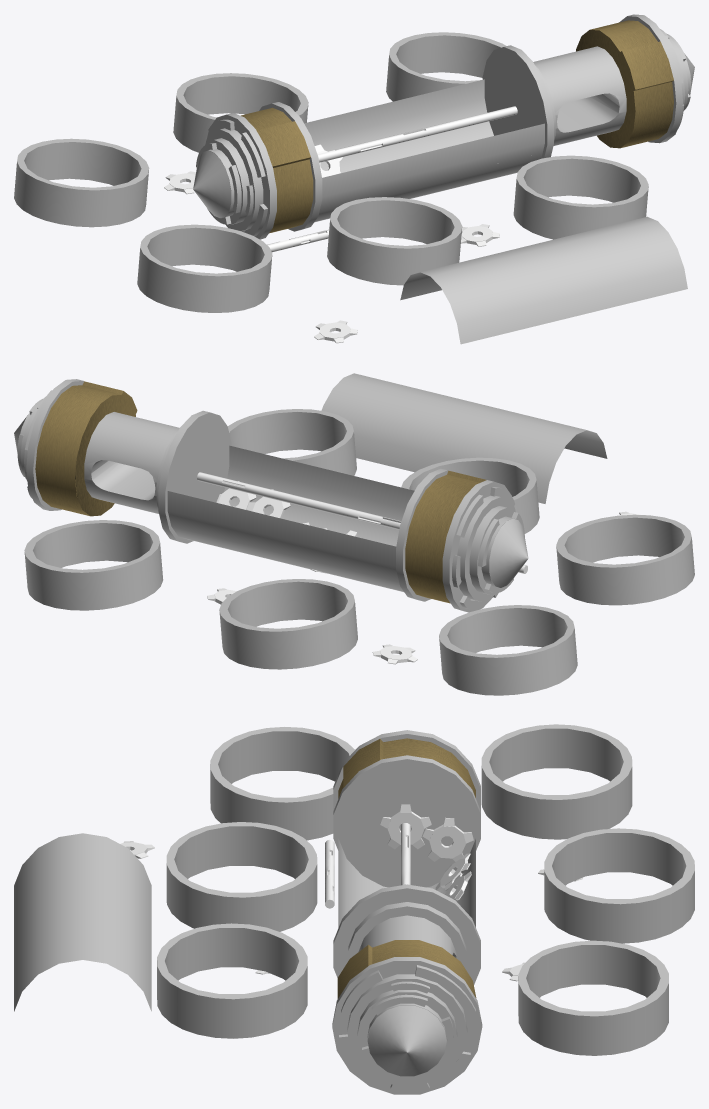
The model's file is BrokenAna.FBX.
The picture shows the model from 3 angles, top to bottom: view 1: azimuth 30°, elevation 25°; view 2: azimuth 150°, elevation 25°; view 3: azimuth 270°, elevation 25°; orthographic projection. The views are drawn at different scales.
Parts seen in each view (by area): view 1: body, cover, ring5 broke002, ring5 broke005, ring5 broke, ring5 broke004, Cone001, back, ring5 broke001, ring5 broke003, head, Cylinder004 (+2 smaller); view 2: body, cover, ring5 broke005, ring5 broke003, ring5 broke001, ring5 broke002, Cone001, back, ring5 broke004, head, ring5 broke, Cone002 (+2 smaller); view 3: body, cover, Cone002, ring5 broke003, ring5 broke004, ring5 broke001, ring5 broke005, ring5 broke, ring5 broke002, cog, back, head (+2 smaller).
Boxes of the visible parts, x1,y1,x2,y2 form: body: (259,45,626,231); cover: (400,216,687,344); ring5 broke002: (137,224,272,312); ring5 broke005: (14,138,149,227); ring5 broke: (327,197,462,285); ring5 broke004: (513,155,648,239); Cone001: (193,113,276,239); back: (576,20,673,148); ring5 broke001: (173,73,308,152); ring5 broke003: (386,32,506,101); head: (241,107,313,233); Cylinder004: (267,106,517,252); body: (84,410,447,601); cover: (321,373,607,503); ring5 broke005: (439,605,577,695); ring5 broke003: (24,520,163,610); ring5 broke001: (219,579,357,669); ring5 broke002: (556,514,694,605); Cone001: (442,480,528,612); back: (35,381,137,516); ring5 broke004: (227,409,356,475); head: (405,470,486,603); ring5 broke: (401,457,539,533); Cone002: (14,379,83,510); body: (333,755,480,984); cover: (14,833,151,1011); Cone002: (332,957,482,1094); ring5 broke003: (518,940,668,1055); ring5 broke004: (157,923,307,1038); ring5 broke001: (544,828,694,943); ring5 broke005: (481,724,632,839); ring5 broke: (166,822,317,931); ring5 broke002: (210,727,354,840); cog: (120,804,582,981); back: (337,940,476,998); head: (338,738,475,798).
Bounding box in the file's own units: 80.03 × 15.19 × 68.16.
